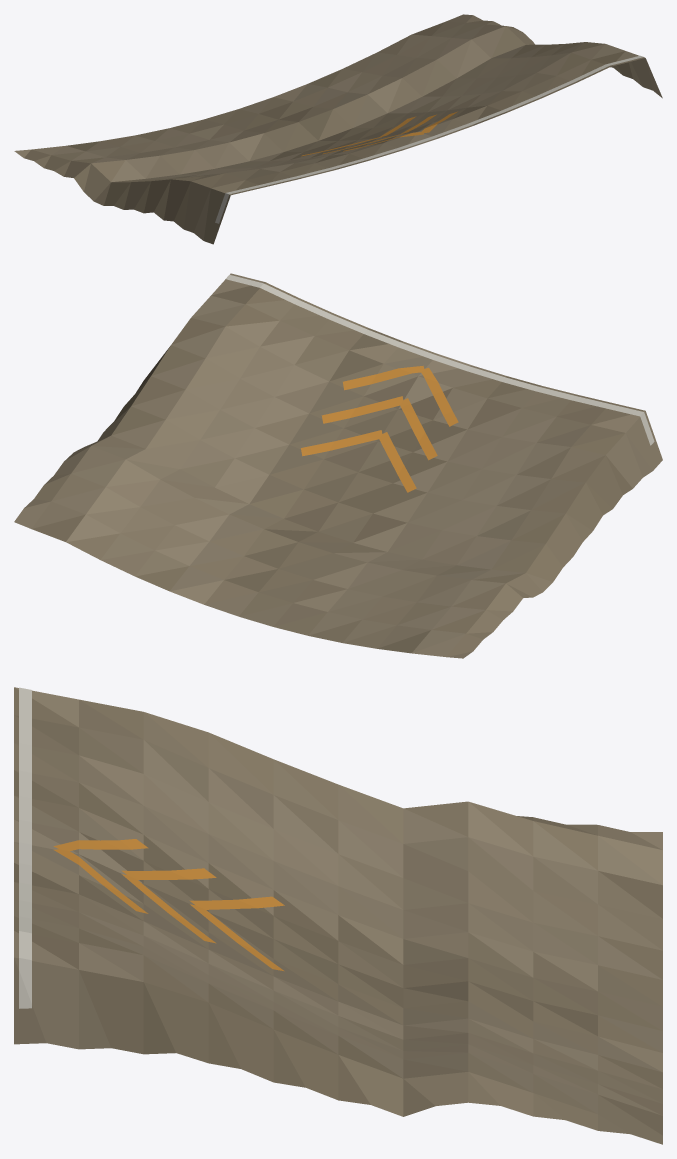
Rendered from dam_apron_kicker.glb.
3 views of the same model, one above another, from view 1: azimuth 30°, elevation 25°; view 2: azimuth 150°, elevation 25°; view 3: azimuth 270°, elevation 25° (orthographic). The views are drawn at different scales.
Visible parts, largest first — view 1: dam_apron_kicker; view 2: dam_apron_kicker; view 3: dam_apron_kicker.
Part boxes in pixels (box(x1,y1,x2,y2)): dam_apron_kicker: box(14, 14, 662, 244); dam_apron_kicker: box(14, 273, 662, 658); dam_apron_kicker: box(14, 687, 662, 1144).
Size of the model in its own units: 26 by 8.23 by 20.
